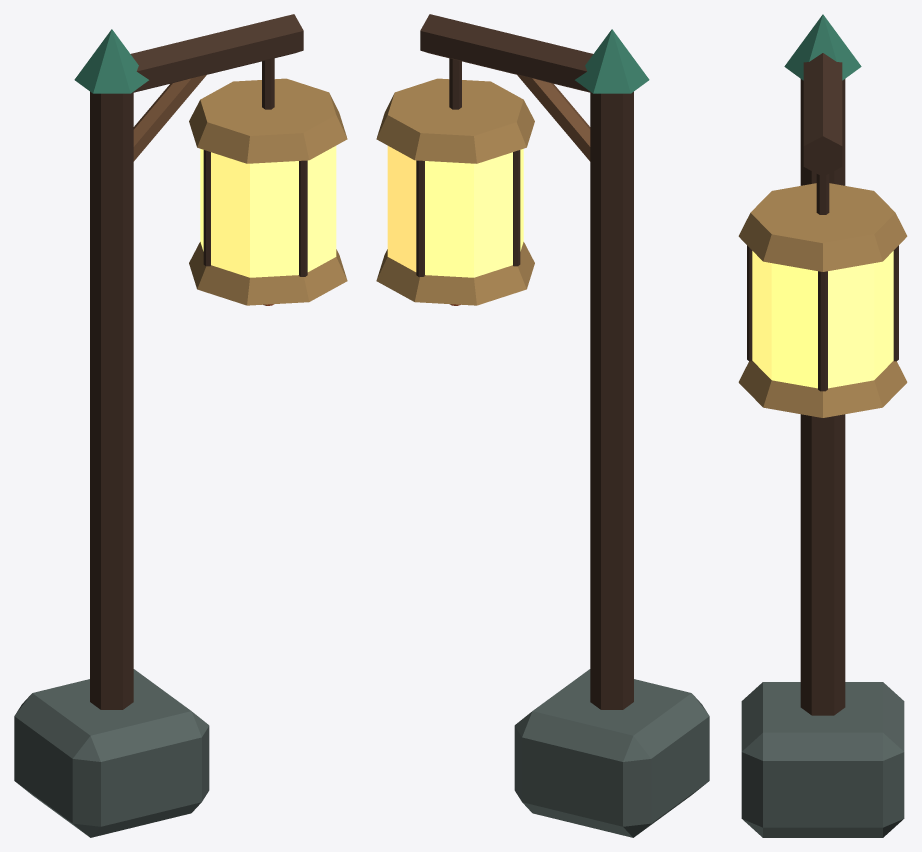
File: lantern.glb
3 renders of one model, left to right at view 1: azimuth 30°, elevation 25°; view 2: azimuth 150°, elevation 25°; view 3: azimuth 270°, elevation 25°, orthographic. The views are drawn at different scales.
Parts seen in each view (by area): view 1: lantern_Timber, lantern_Ash_stone, lantern_Old_gold, lantern_Lantern_paper, lantern_Jade_bright, lantern_Timber_edge; view 2: lantern_Timber, lantern_Ash_stone, lantern_Old_gold, lantern_Lantern_paper, lantern_Jade_bright, lantern_Timber_edge; view 3: lantern_Ash_stone, lantern_Timber, lantern_Old_gold, lantern_Lantern_paper, lantern_Jade_bright.
Part boxes in pixels (x1,y1,x2,y2): lantern_Timber: [90, 14, 307, 709]; lantern_Ash_stone: [14, 669, 209, 837]; lantern_Old_gold: [189, 78, 347, 305]; lantern_Lantern_paper: [200, 146, 336, 277]; lantern_Jade_bright: [74, 29, 148, 93]; lantern_Timber_edge: [133, 74, 206, 161]; lantern_Timber: [416, 14, 633, 709]; lantern_Ash_stone: [514, 669, 709, 837]; lantern_Old_gold: [376, 78, 534, 305]; lantern_Lantern_paper: [387, 146, 523, 277]; lantern_Jade_bright: [575, 29, 649, 93]; lantern_Timber_edge: [517, 74, 590, 161]; lantern_Ash_stone: [741, 682, 904, 837]; lantern_Timber: [747, 53, 898, 715]; lantern_Old_gold: [738, 183, 907, 417]; lantern_Lantern_paper: [752, 251, 893, 388]; lantern_Jade_bright: [784, 14, 861, 80].
Size of the model in its own units: 0.9084 by 2.28 by 0.4368.
